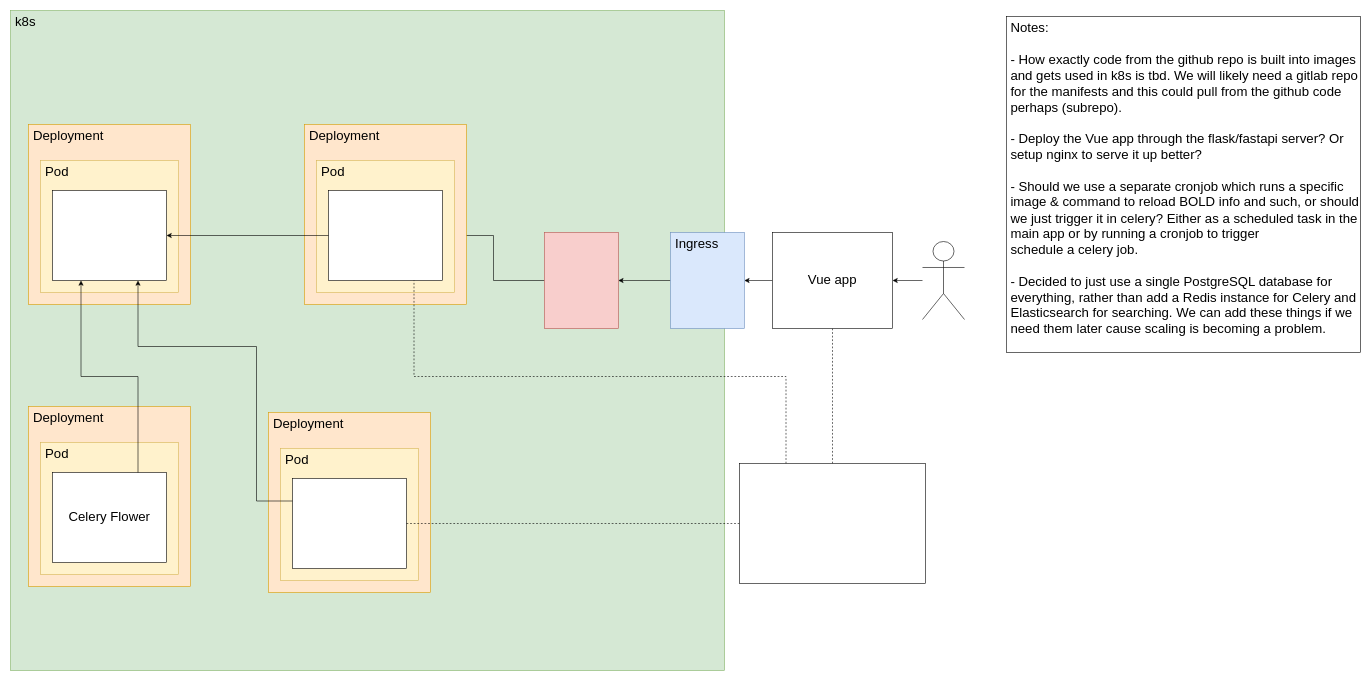
Some shapes in this 1371 by 681 pixel diagram are drawn without their labels. Here are the shapes that lost their labels. From the top down, the centre of each, then its label:
At [109,235]: "PostgreSQL".
At [385,235]: "Python web app container".
At [581,280]: "Service".
At [943,280]: "User".
At [349,523]: "Celery task runner".
At [832,523]: "GitHub repo".
